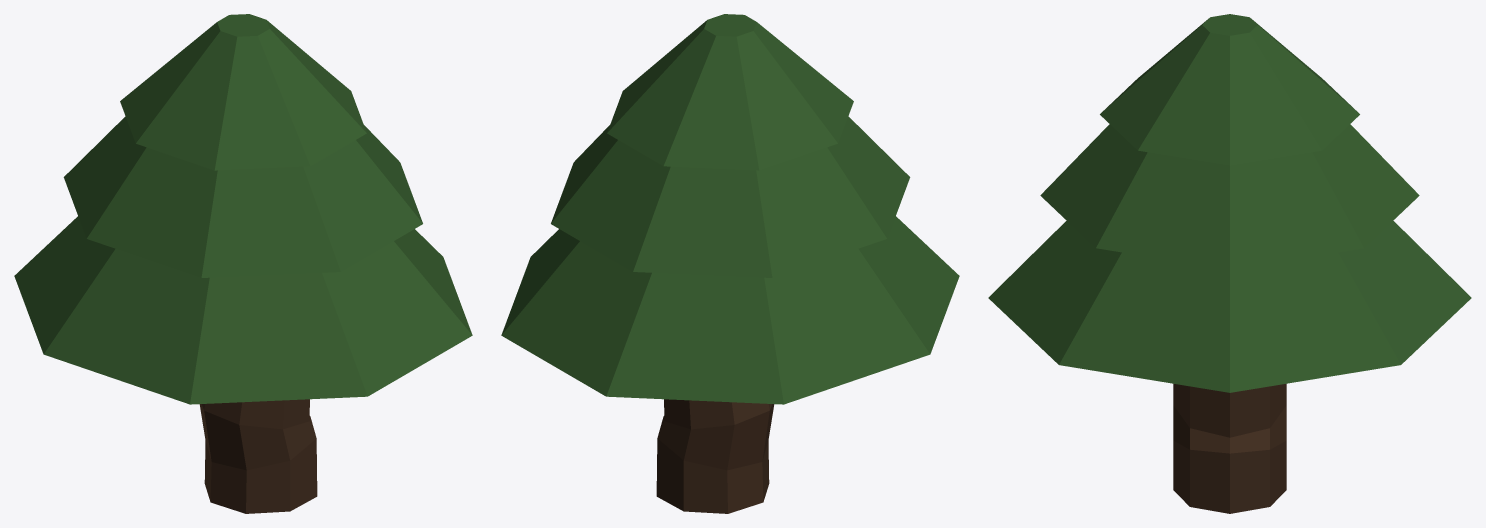
File: Pino.fbx
3 views of the same model, side by side, from view 1: azimuth 30°, elevation 25°; view 2: azimuth 150°, elevation 25°; view 3: azimuth 270°, elevation 25° (orthographic). The views are drawn at different scales.
Visible parts, largest first — view 1: Cylinder.027; view 2: Cylinder.027; view 3: Cylinder.027.
Part boxes in pixels (box(x1,y1,x2,y2)): Cylinder.027: box(14, 14, 472, 513); Cylinder.027: box(501, 14, 959, 513); Cylinder.027: box(988, 14, 1471, 513).
Bounding box in the file's own units: 94.14 × 106 × 101.
